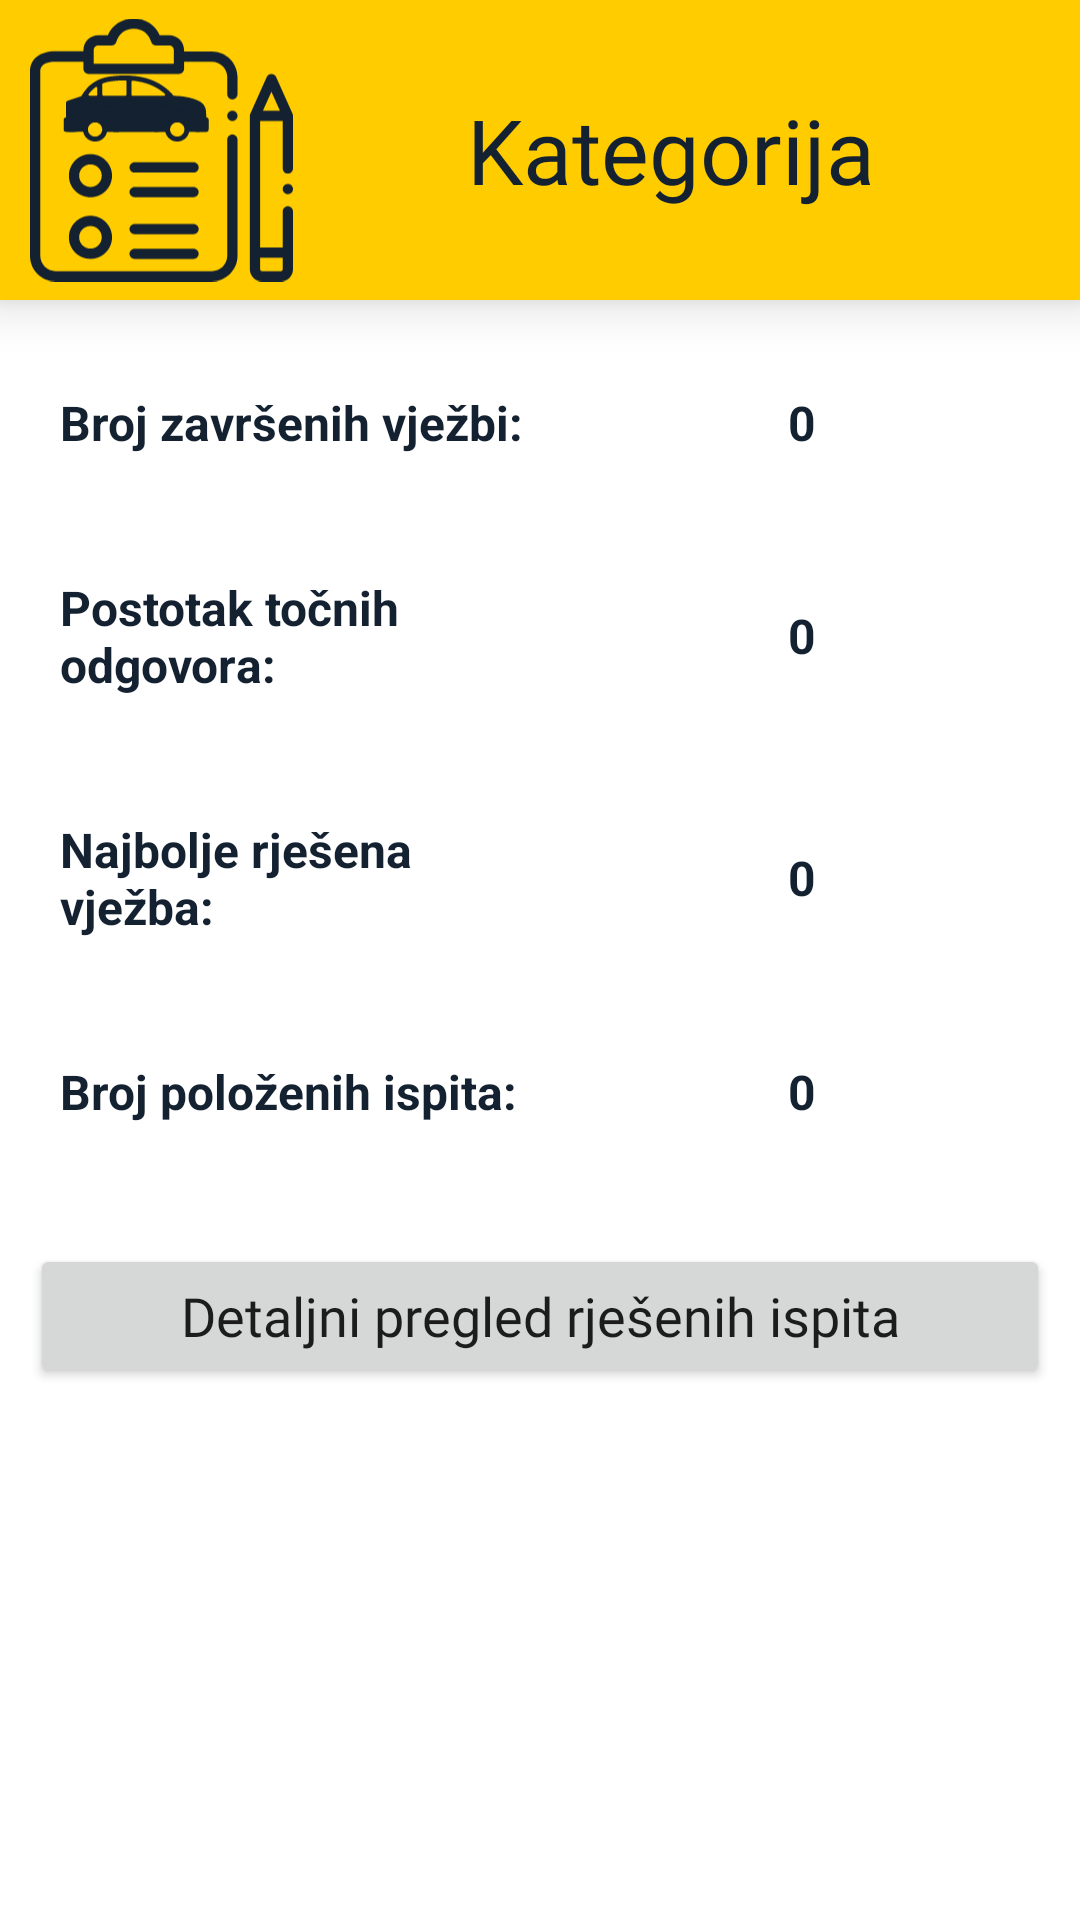

Named icons in this screenshot (1080px x 1920px) and their centers, (x=x, y=y):
ispit propisi: (x=161, y=150)
